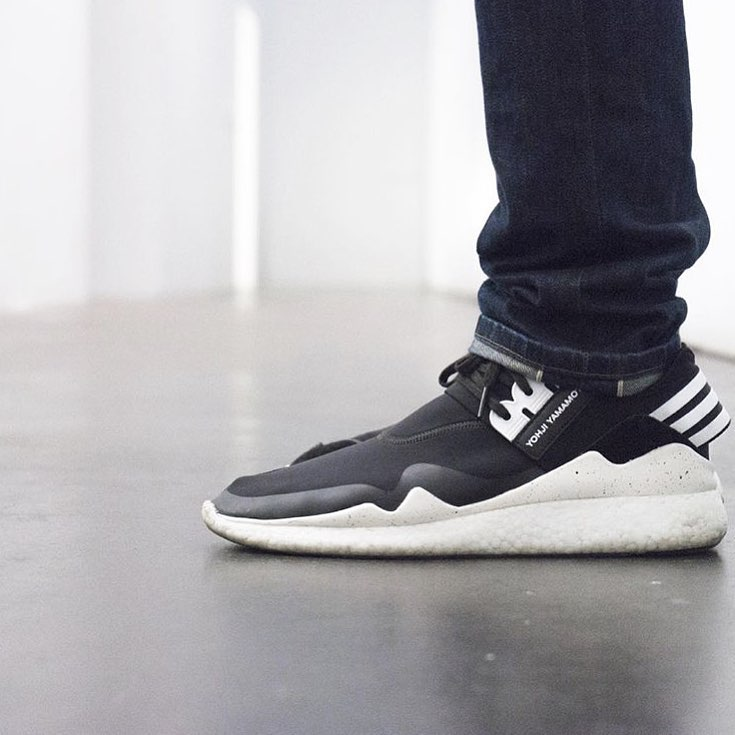sneaker: (160, 253, 735, 576)
